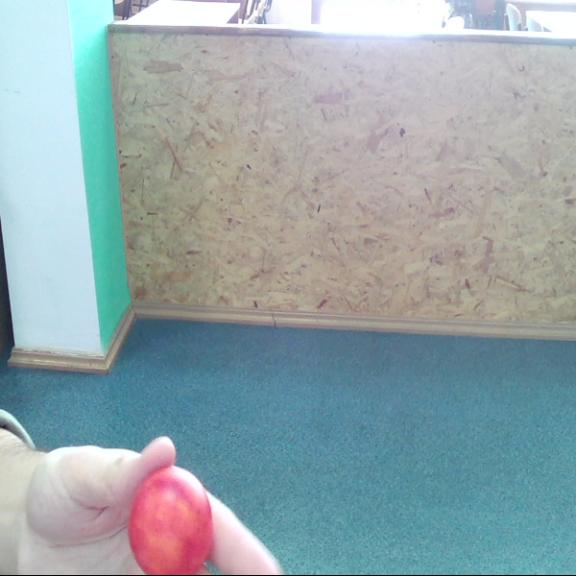ball: (136, 465, 211, 576)
